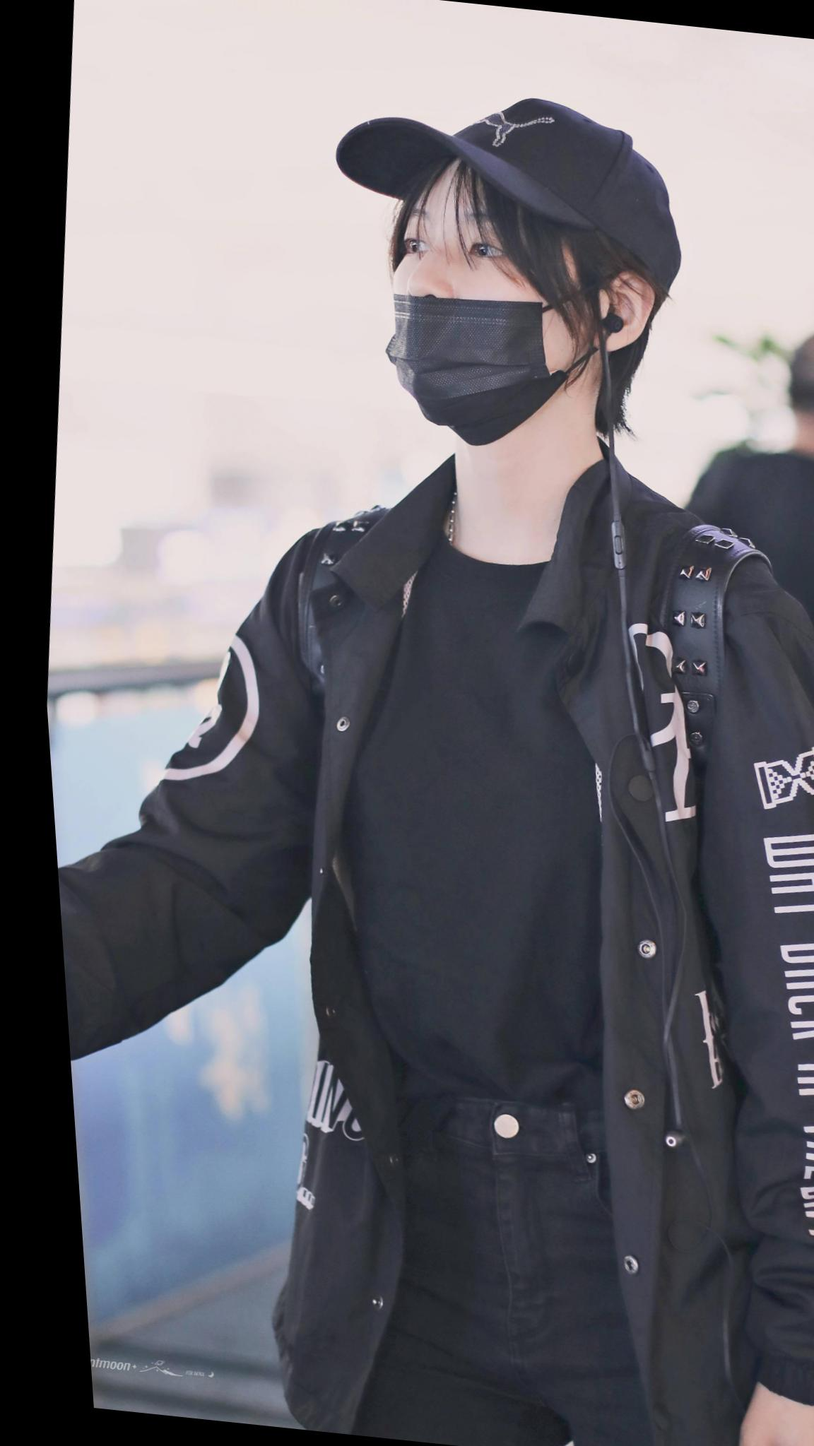WRONG: (365, 181, 592, 443)
